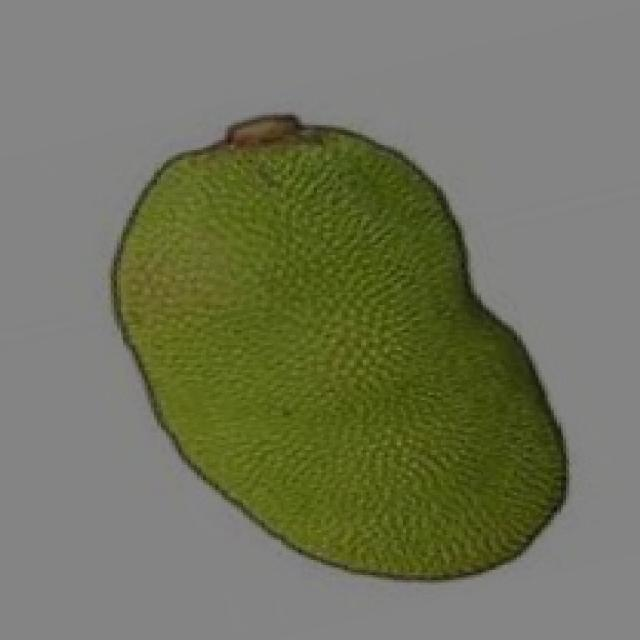Fruit: (215, 260, 600, 618)
